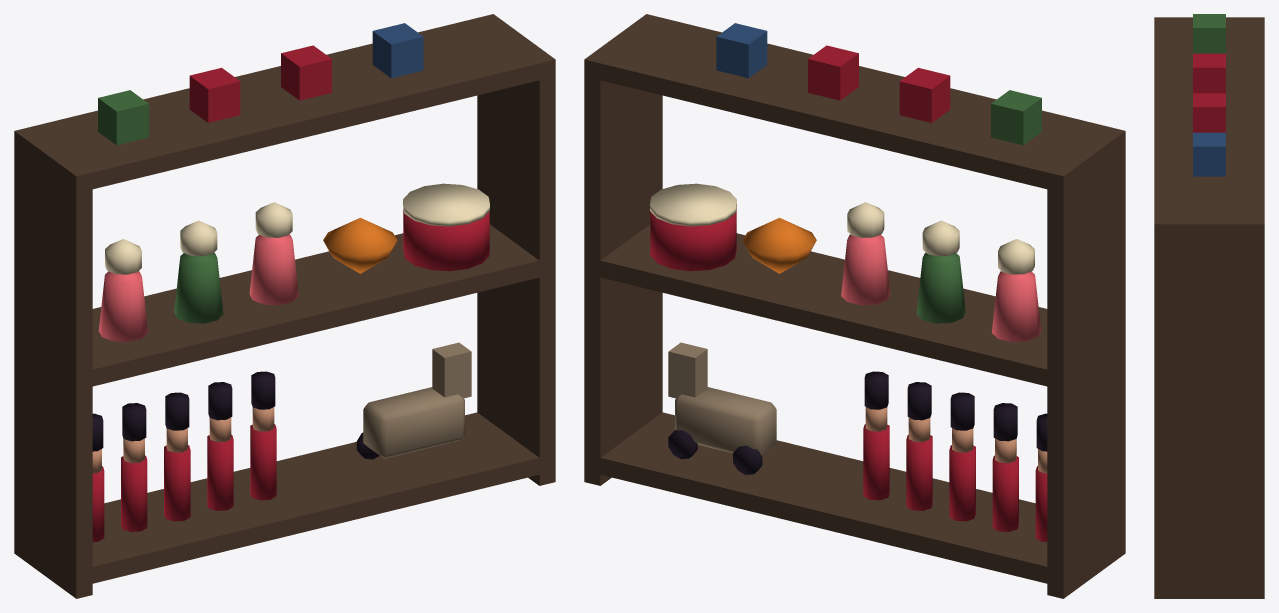
Rendered from toy_shelf.glb.
3 views of the same model, side by side, from view 1: azimuth 30°, elevation 25°; view 2: azimuth 150°, elevation 25°; view 3: azimuth 270°, elevation 25° (orthographic). The views are drawn at different scales.
Visible parts, largest first — view 1: toy_shelf; view 2: toy_shelf; view 3: toy_shelf.
Part boxes in pixels (bbox=[...]): toy_shelf: bbox=[14, 14, 555, 598]; toy_shelf: bbox=[584, 14, 1125, 598]; toy_shelf: bbox=[1154, 14, 1264, 598].
Bounding box in the file's own units: 0.89 × 0.81 × 0.2.
